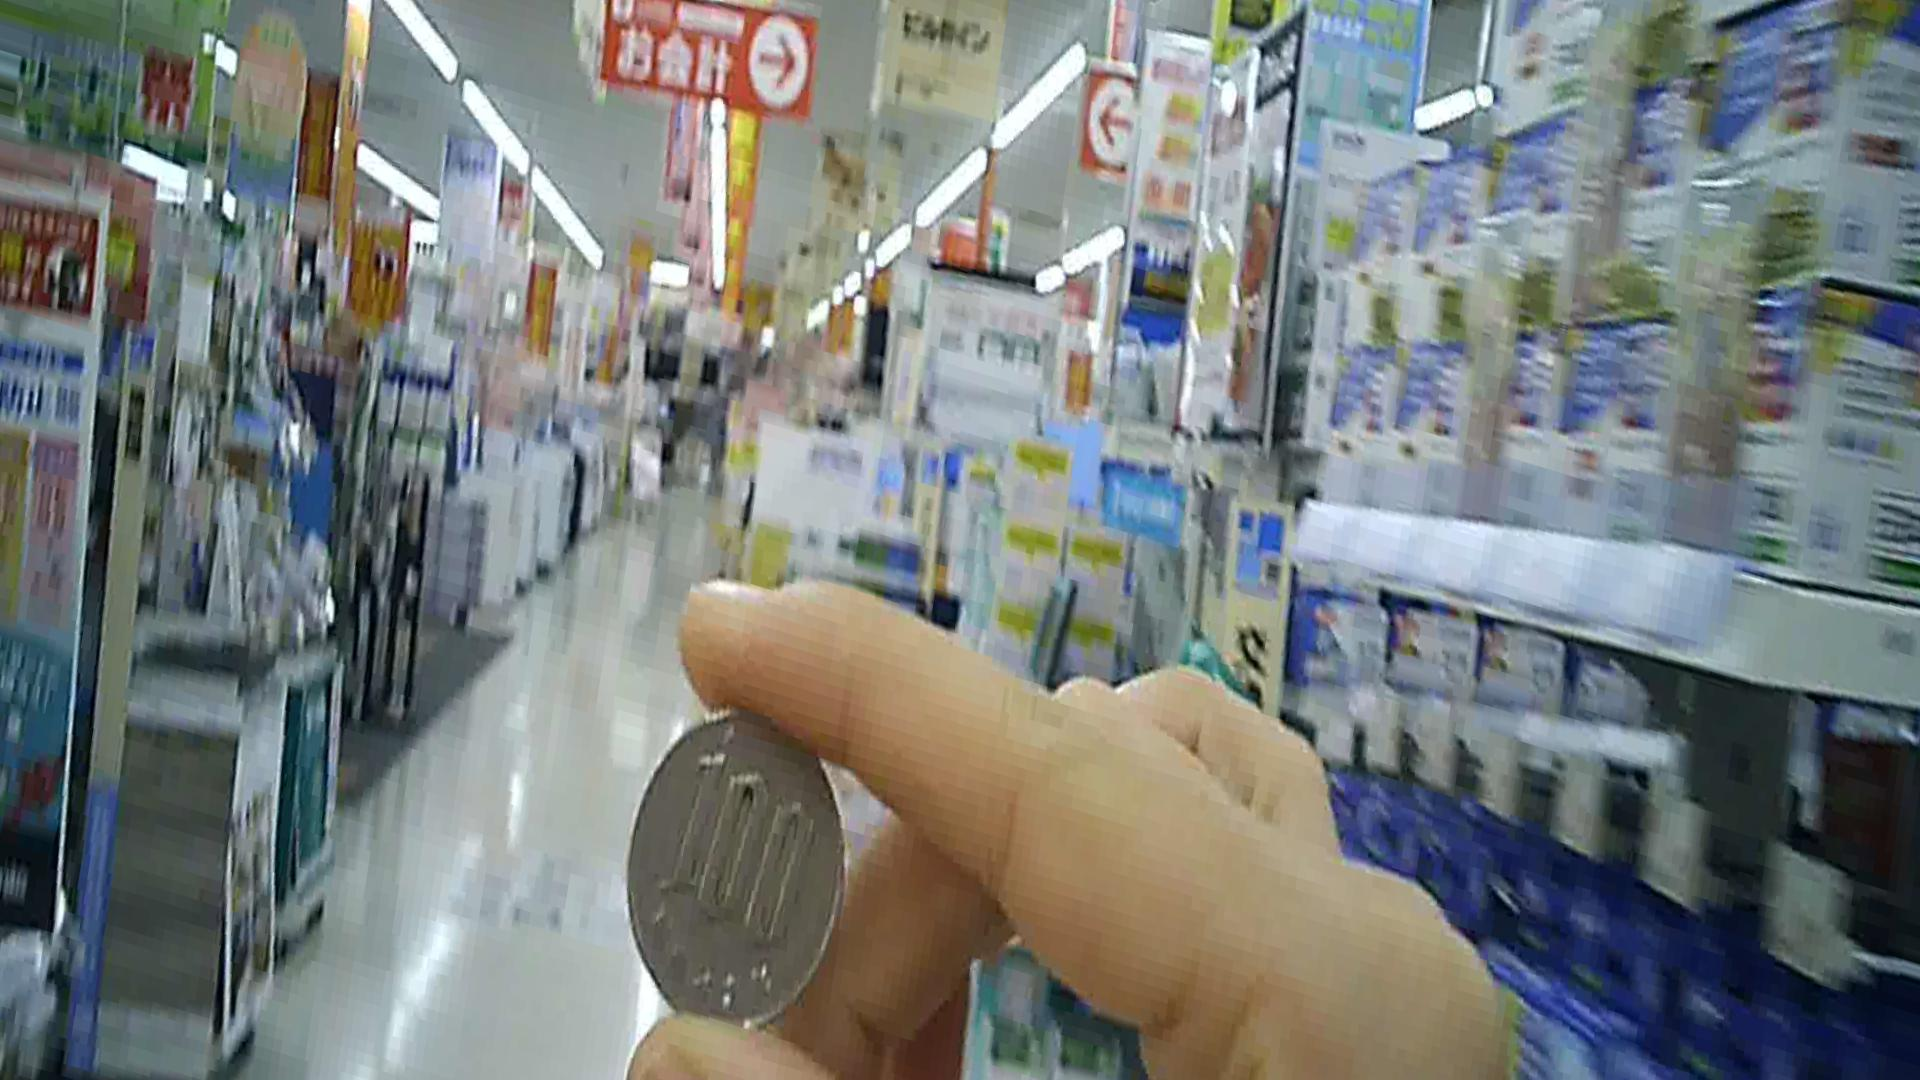100 Yen: (624, 709, 847, 1036)
